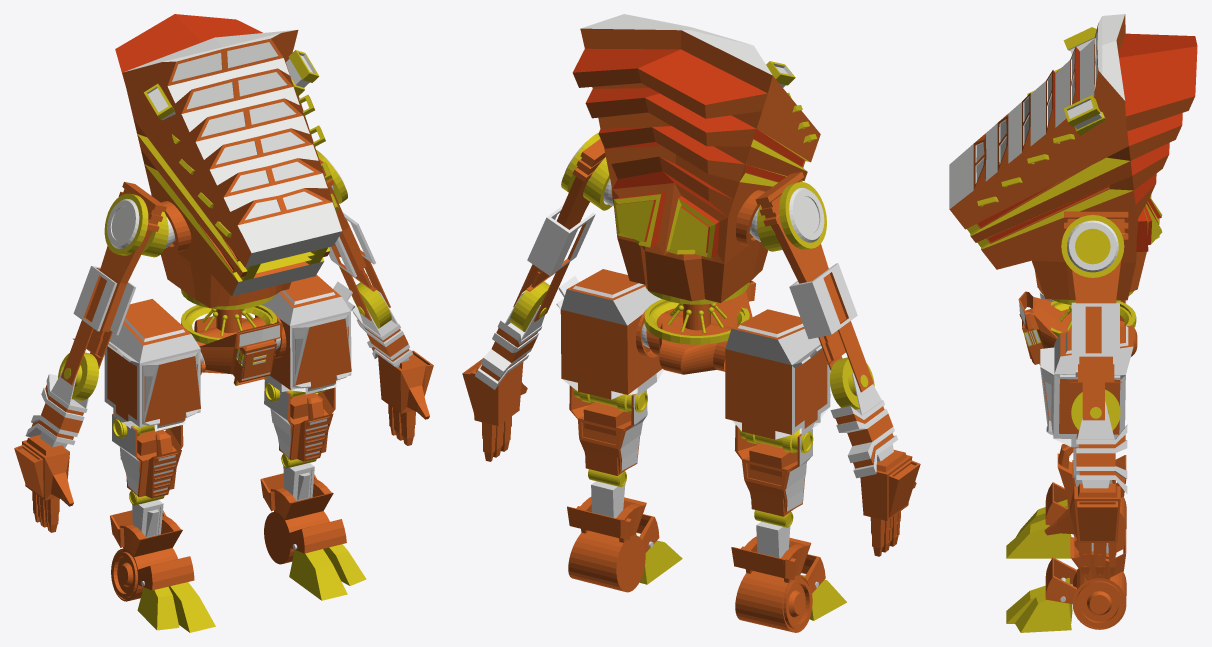
The model's file is Project-A-Mech_Full.fbx.
3 views of the same model, side by side, from view 1: azimuth 30°, elevation 25°; view 2: azimuth 150°, elevation 25°; view 3: azimuth 270°, elevation 25° (orthographic). The views are drawn at different scales.
Visible parts, largest first — view 1: UpperBody, RightHip, LeftHip, RightBicep.001, RightFoot, LeftFoot, Torso, RightShin, LeftShin, RightForearm.001, RightHand.001, LeftHand.001 (+6 smaller); view 2: UpperBody, RightHip, LeftHip, RightFoot, LeftFoot, RightBicep.001, Torso, LeftBicep.001, RightForearm.001, LeftShin, RightShin, RightHand.001 (+4 smaller); view 3: UpperBody, LeftBicep.001, LeftFoot, LeftHip, LeftHand.001, LeftForearm.001, Torso, RightFoot.L, LeftFoot.L, RightFoot, LeftShin, LeftFoot.R.
Part boxes in pixels (x1,y1,x2,y2): UpperBody: (104,14,347,333); RightHip: (104,299,201,438); LeftHip: (255,274,354,401); RightBicep.001: (61,182,166,385); RightFoot: (110,500,194,601); LeftFoot: (260,463,346,564); Torso: (181,305,282,385); RightShin: (112,414,183,505); LeftShin: (264,380,335,468); RightForearm.001: (25,352,98,448); RightHand.001: (14,435,73,532); LeftHand.001: (378,350,433,445); UpperBody: (561,14,826,330); RightHip: (725,309,830,453); LeftHip: (556,269,663,412); RightFoot: (731,521,825,632); LeftFoot: (567,481,659,592); RightBicep.001: (755,172,873,392); Torso: (641,280,755,374); LeftBicep.001: (513,139,605,321); RightForearm.001: (830,357,898,478); LeftShin: (569,385,647,487); RightShin: (734,425,812,527); RightHand.001: (860,450,920,556); UpperBody: (949,14,1197,304); LeftBicep.001: (1064,211,1128,420); LeftFoot: (1045,529,1126,629); LeftHip: (1040,325,1133,447); LeftHand.001: (1044,483,1120,574); LeftForearm.001: (1071,389,1127,493); Torso: (1018,291,1137,365); RightFoot.L: (1006,519,1071,558); LeftFoot.L: (1015,593,1071,632); RightFoot: (1045,455,1126,537); LeftShin: (1057,444,1115,504); LeftFoot.R: (1006,577,1072,623).
Size of what is drawn, in the model's own units: 833 by 1069 by 441.
